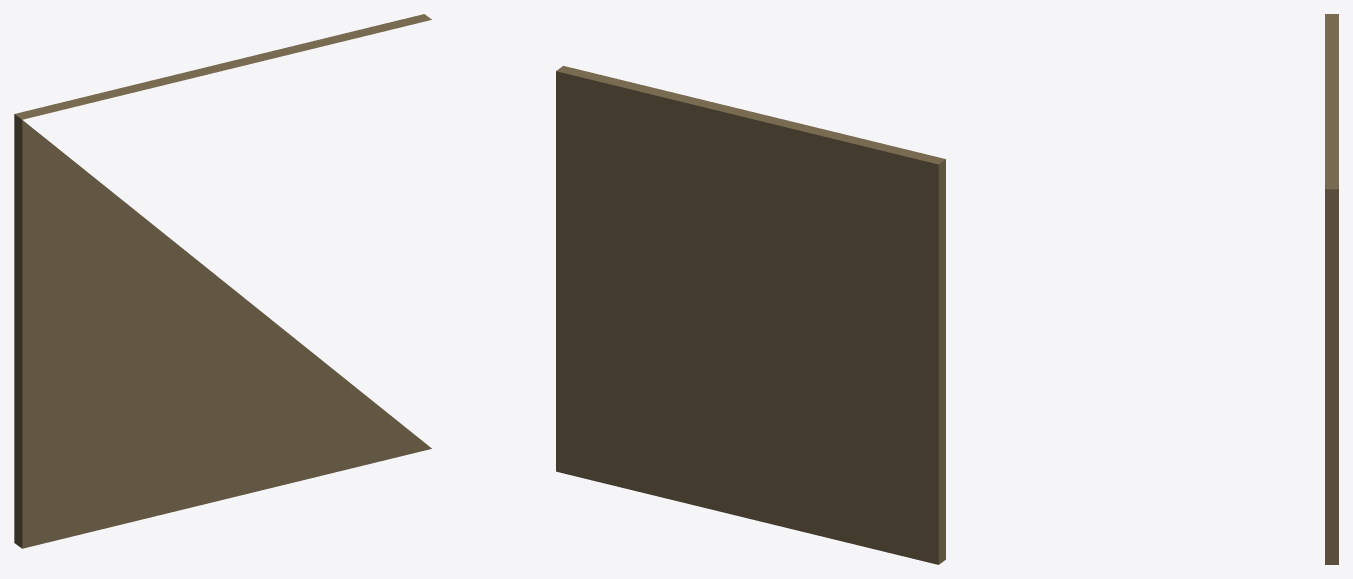
File: grass_dense.glb
3 renders of one model, left to right at view 1: azimuth 30°, elevation 25°; view 2: azimuth 150°, elevation 25°; view 3: azimuth 270°, elevation 25°, orthographic. The views are drawn at different scales.
Parts seen in each view (by area): view 1: geometry_0; view 2: geometry_0; view 3: geometry_0.
Part boxes in pixels (box(x1,y1,x2,y2)): geometry_0: box(14, 14, 431, 548); geometry_0: box(556, 66, 945, 564); geometry_0: box(1325, 14, 1338, 564).
Size of the model in its own units: 0.3 by 0.3023 by 0.1887.
